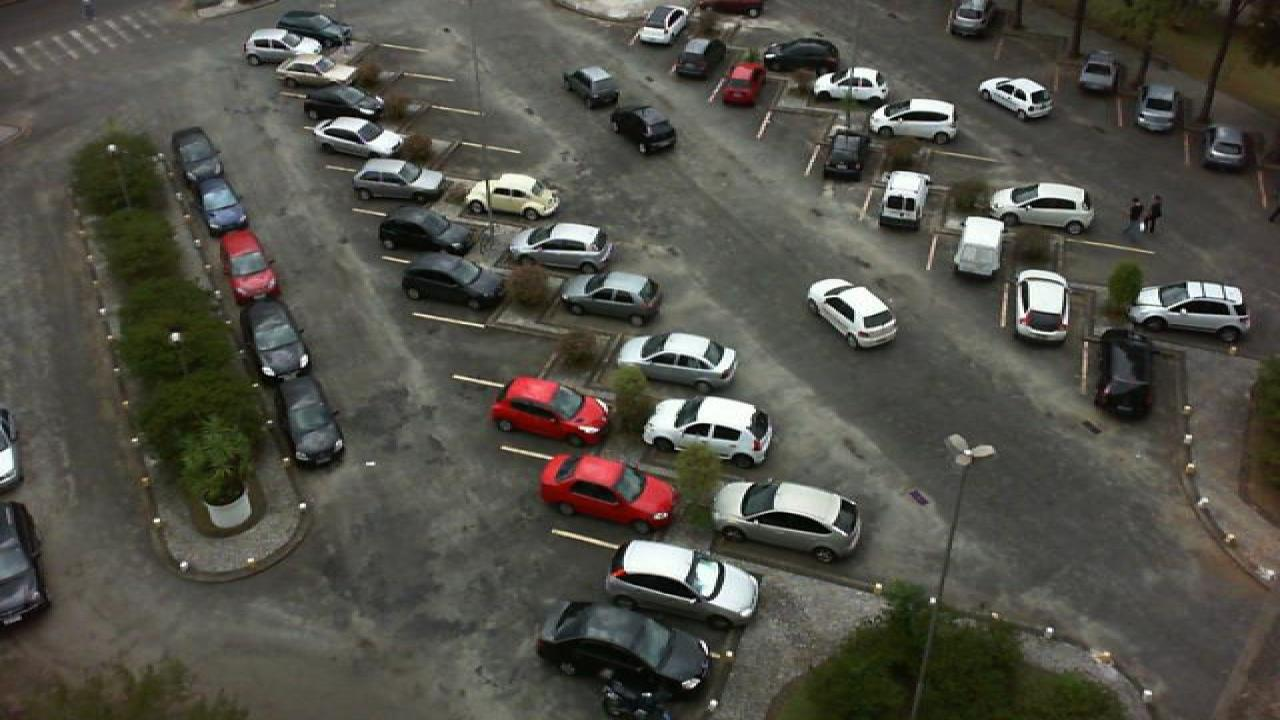Car: (534, 598, 716, 698), (604, 538, 764, 632), (710, 477, 864, 565), (538, 452, 684, 534), (642, 394, 780, 470), (490, 376, 614, 449), (1126, 279, 1252, 345), (614, 330, 742, 392), (268, 373, 346, 467), (398, 252, 512, 313), (0, 500, 52, 628), (1094, 328, 1160, 422), (988, 182, 1100, 236), (242, 298, 314, 379), (560, 269, 662, 324), (514, 221, 616, 274), (376, 207, 472, 261), (212, 228, 280, 302), (462, 171, 562, 221), (1010, 269, 1070, 345), (866, 97, 962, 144), (310, 114, 402, 160), (350, 158, 446, 202), (950, 215, 1010, 281), (876, 170, 934, 233), (272, 53, 364, 92), (300, 82, 386, 123), (812, 65, 890, 109), (192, 174, 250, 233), (1190, 123, 1252, 173), (242, 30, 328, 66), (170, 125, 224, 182), (758, 37, 842, 73), (820, 125, 872, 182), (278, 9, 352, 46), (1132, 82, 1180, 134), (636, 4, 692, 47), (672, 36, 726, 80), (714, 61, 764, 108), (1076, 50, 1124, 94), (946, 0, 994, 38), (694, 0, 770, 18)
